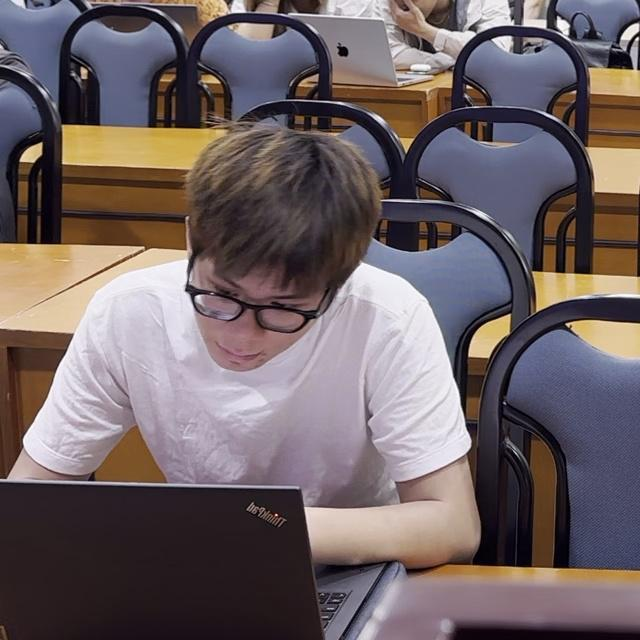Looking away: (182, 248, 325, 372)
